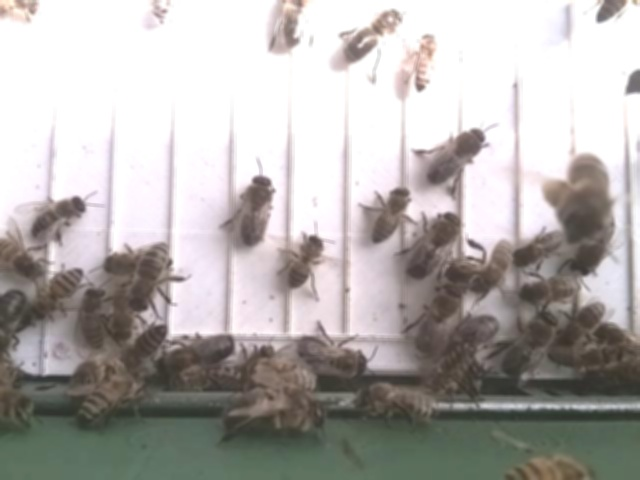Drone: (405, 205, 465, 281), (154, 328, 239, 380), (501, 307, 561, 379), (424, 123, 489, 189), (411, 278, 462, 360), (342, 4, 407, 67), (296, 332, 372, 379), (237, 171, 275, 249)
Worker: (128, 239, 171, 316), (30, 266, 87, 320), (470, 236, 518, 299), (367, 184, 414, 244), (34, 194, 89, 240), (518, 270, 582, 308), (287, 229, 325, 292), (514, 225, 570, 267), (122, 322, 170, 369), (410, 31, 444, 94), (79, 284, 111, 350), (0, 236, 44, 280)
